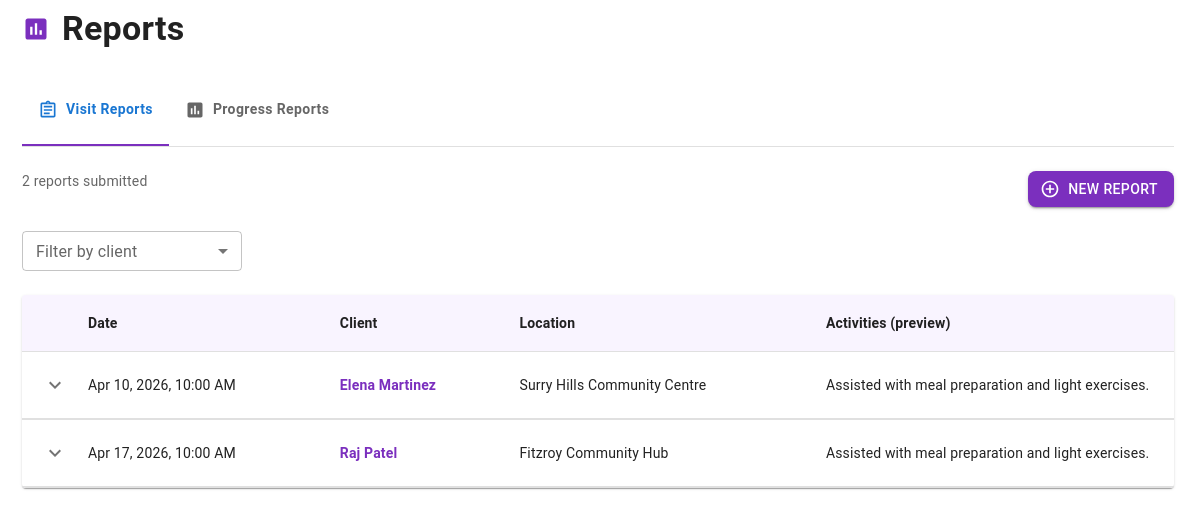
Scenario: ReportsPage › client filter › filters rows by selected client
expect the text "Raj Patel" is shown: met, box [324,420,503,487]
Click the dropdown.
click(132, 252)  # box [22,232,242,272]
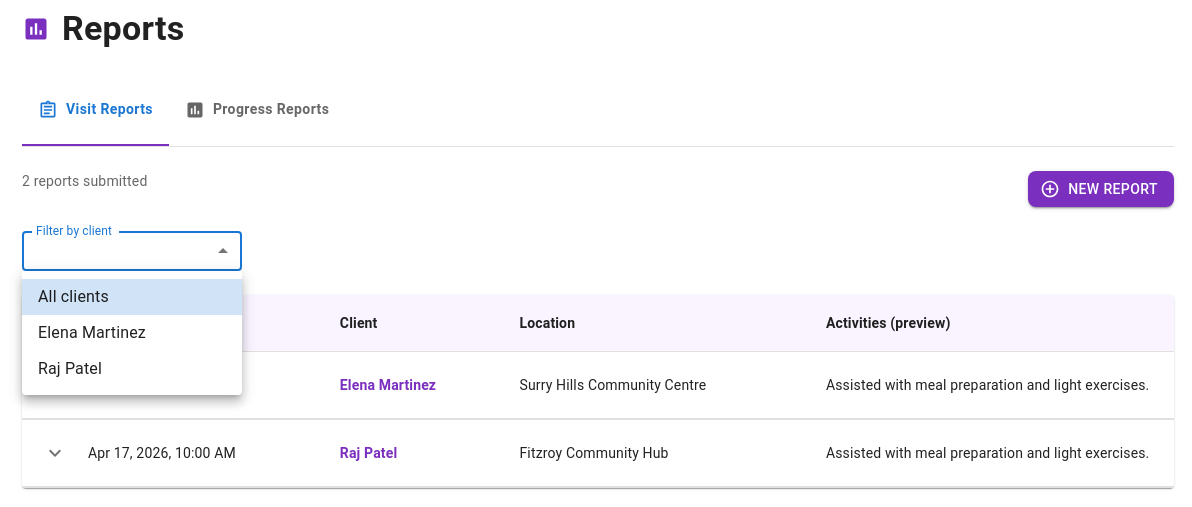
Click the option "Elena Martinez".
click(92, 332)  # box [38,323,146,342]
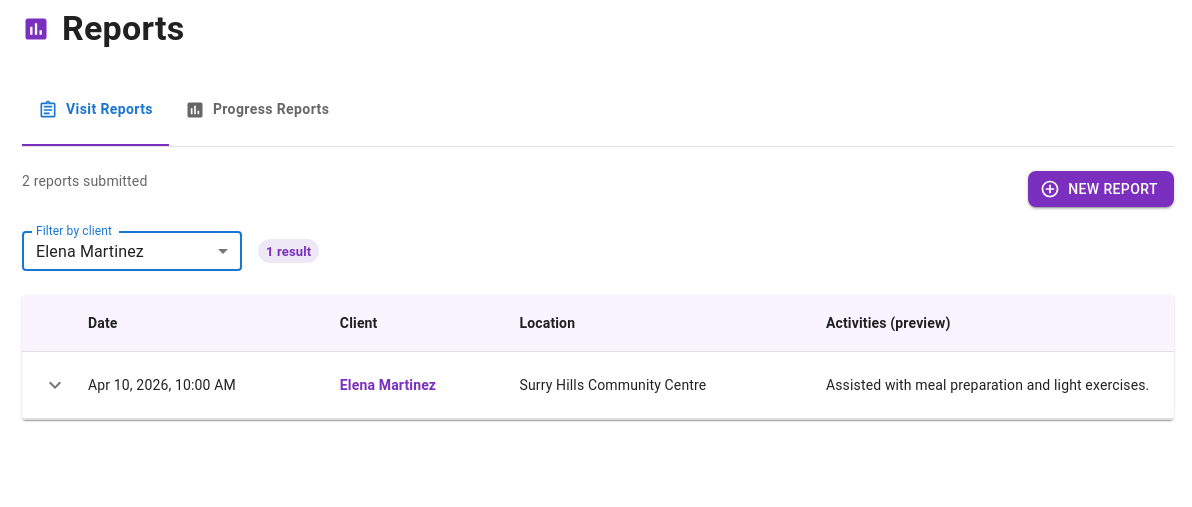
expect the text "Elena Martinez" is shown: met, box [324,352,503,419]
expect the text "Raj Patel" is gone: met
